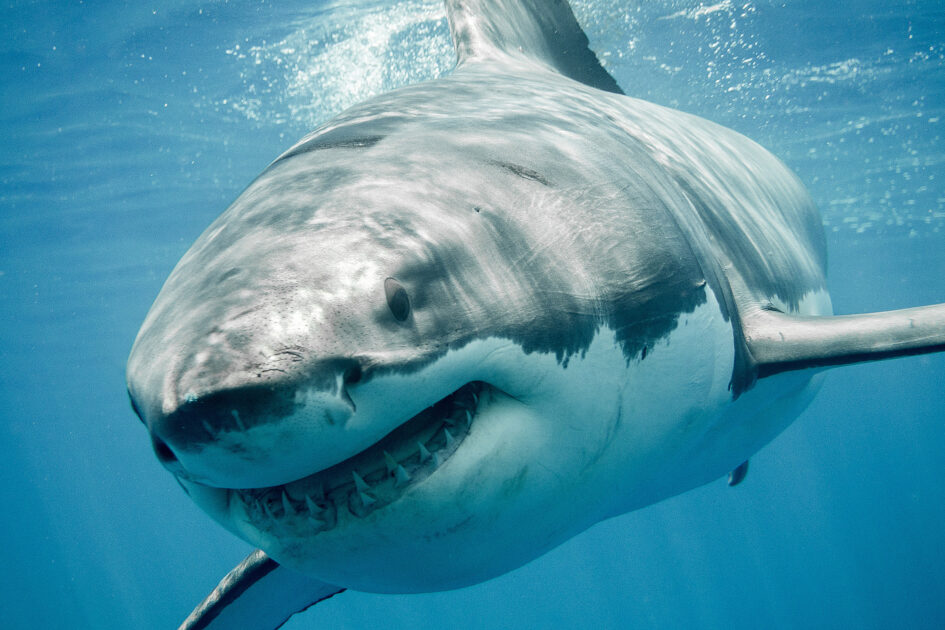shark: (117, 12, 945, 612)
